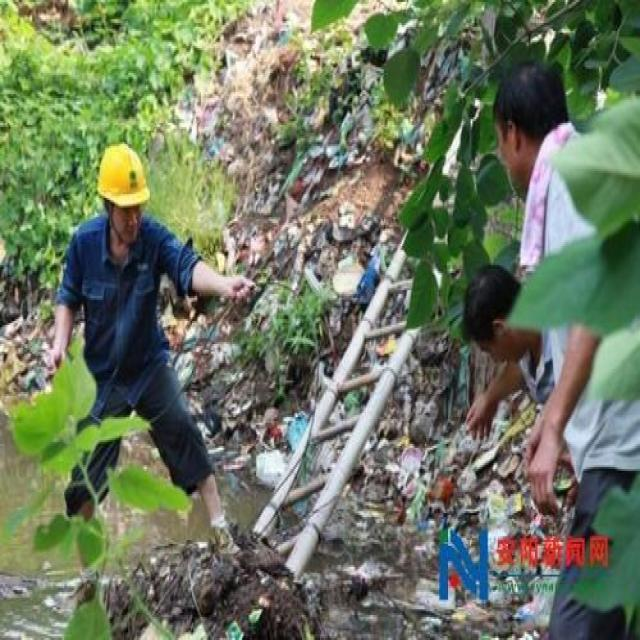hat: (92, 136, 152, 246)
no hat: (488, 54, 578, 208), (452, 261, 554, 375)
